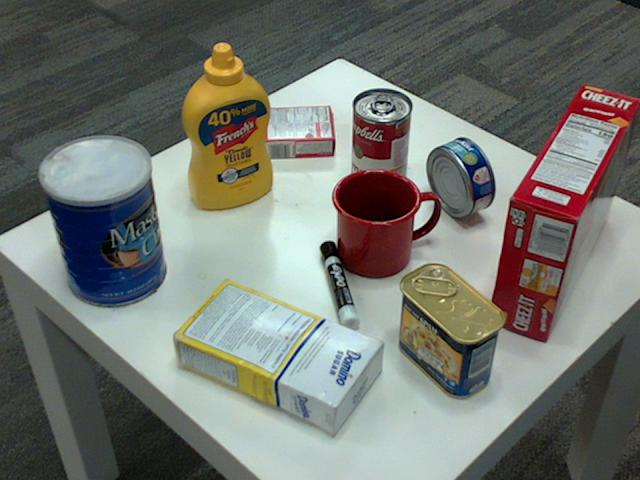cracker_box: (486, 83, 639, 340)
gelatin_box: (262, 103, 336, 156)
large_marker: (319, 242, 358, 335)
master_chef_can: (36, 136, 164, 308)
mug: (330, 166, 436, 275)
mustard_bottle: (181, 43, 273, 208)
potted_meat_can: (395, 262, 505, 398)
sugar_box: (167, 276, 380, 431)
tomato_soup_can: (350, 89, 411, 193)
tuna_fish_can: (425, 137, 493, 216)
